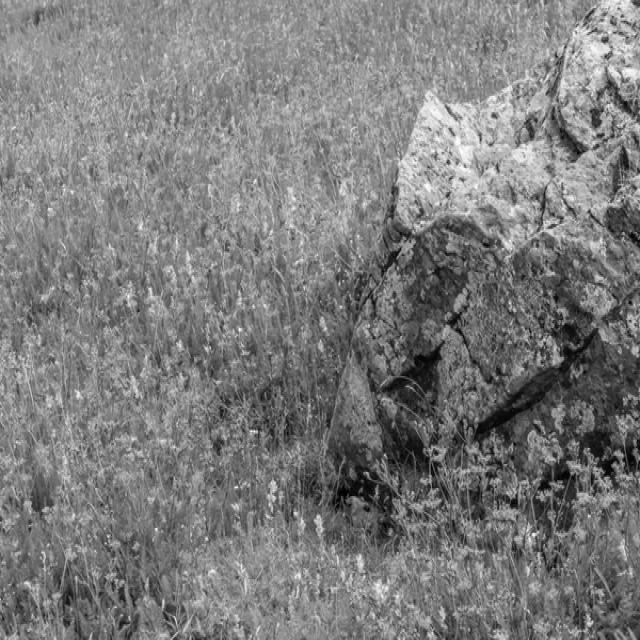Stone: (326, 2, 640, 484)
